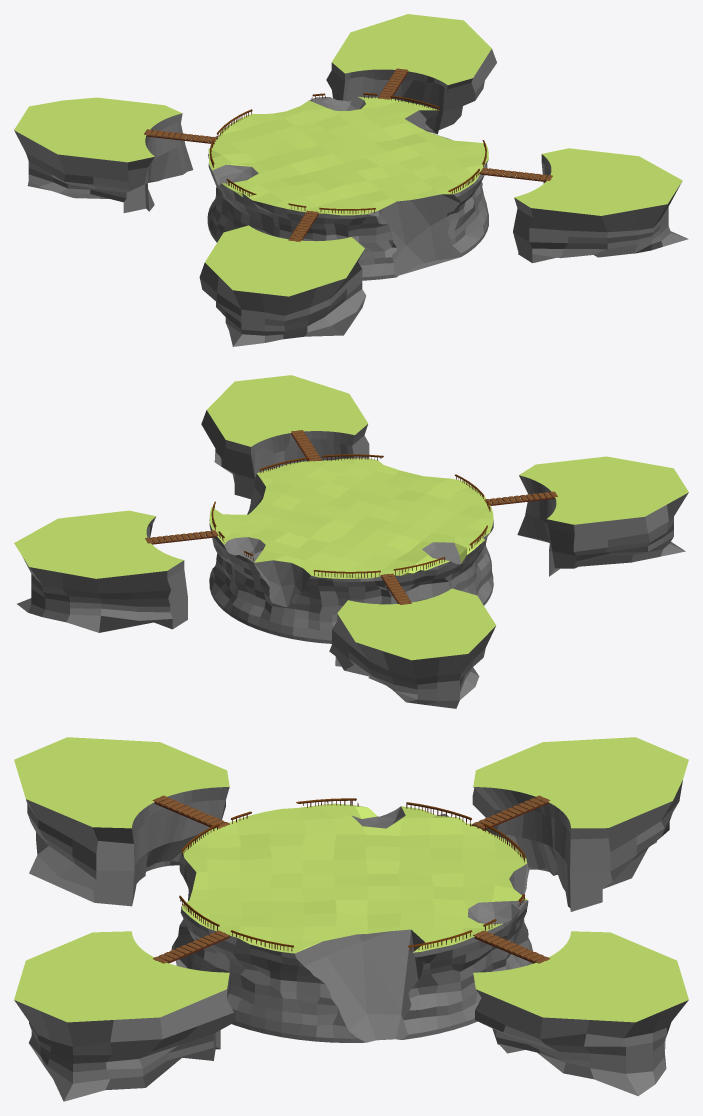
The model's file is Leveltest.fbx.
3 renders of one model, top to bottom at view 1: azimuth 30°, elevation 25°; view 2: azimuth 150°, elevation 25°; view 3: azimuth 270°, elevation 25°, orthographic. The views are drawn at different scales.
Visible parts, largest first — view 1: Cube.005, Cylinder.002, Cube, Cylinder.003, Cylinder.032; view 2: Cube.005, Cylinder.002, Cube, Cylinder.003, Cylinder.032; view 3: Cube.005, Cylinder.002, Cube, Cylinder.003, Cylinder.032.
Part boxes in pixels (bbox=[...]): Cube.005: bbox=[14, 14, 688, 346]; Cylinder.002: bbox=[207, 96, 488, 280]; Cube: bbox=[144, 68, 552, 241]; Cylinder.003: bbox=[210, 93, 486, 210]; Cylinder.032: bbox=[210, 95, 486, 213]; Cube.005: bbox=[14, 375, 688, 708]; Cylinder.002: bbox=[209, 458, 493, 643]; Cube: bbox=[145, 430, 557, 604]; Cylinder.003: bbox=[211, 454, 490, 573]; Cylinder.032: bbox=[212, 456, 490, 577]; Cube.005: bbox=[14, 737, 688, 1101]; Cylinder.002: bbox=[171, 803, 533, 1042]; Cube: bbox=[152, 795, 550, 963]; Cylinder.003: bbox=[179, 798, 525, 947]; Cylinder.032: bbox=[180, 800, 524, 951].
Bounding box in the file's own units: 11126 × 1650 × 11008.
